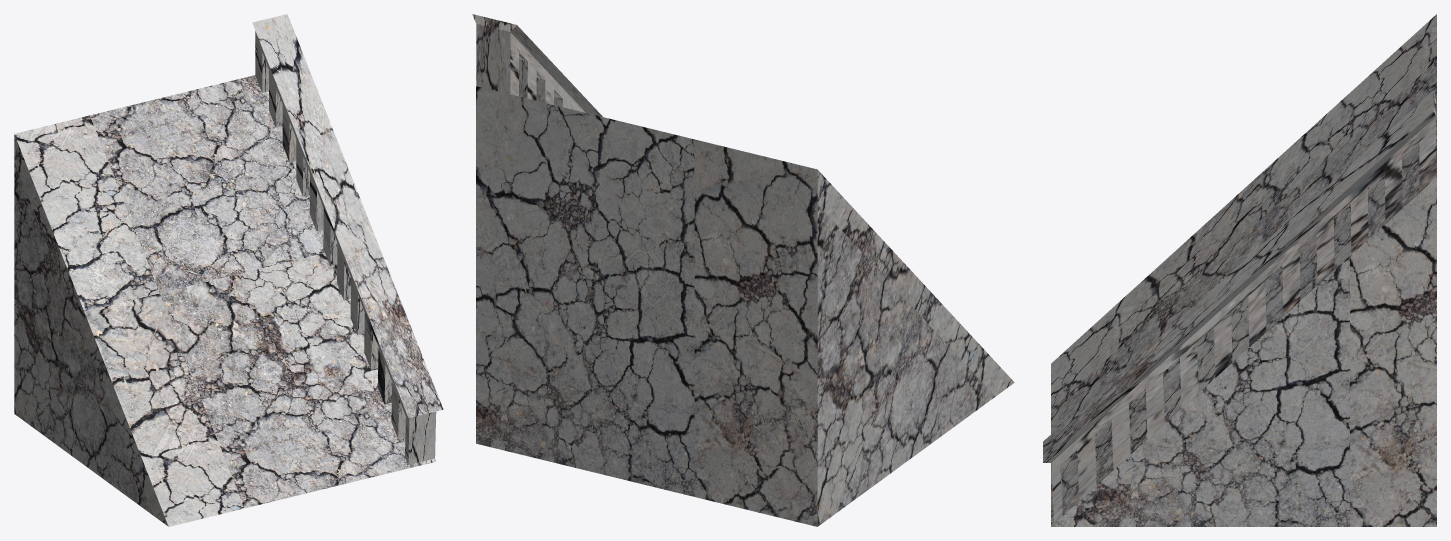
File: ramp.fbx
3 renders of one model, left to right at view 1: azimuth 30°, elevation 25°; view 2: azimuth 150°, elevation 25°; view 3: azimuth 270°, elevation 25°, orthographic. The views are drawn at different scales.
Visible parts, largest first — view 1: Ramp, Railing; view 2: Ramp, Railing; view 3: Ramp, Railing.
Part boxes in pixels (left/top/right/bottom): Ramp: left=14, top=75, right=436, bottom=526; Railing: left=252, top=14, right=443, bottom=464; Ramp: left=476, top=86, right=1014, bottom=526; Railing: left=472, top=14, right=602, bottom=116; Ramp: left=1051, top=14, right=1436, bottom=526; Railing: left=1043, top=90, right=1436, bottom=523.
Bounding box in the file's own units: 203 × 239 × 204.
Materials: 1 (1 with a texture image).
